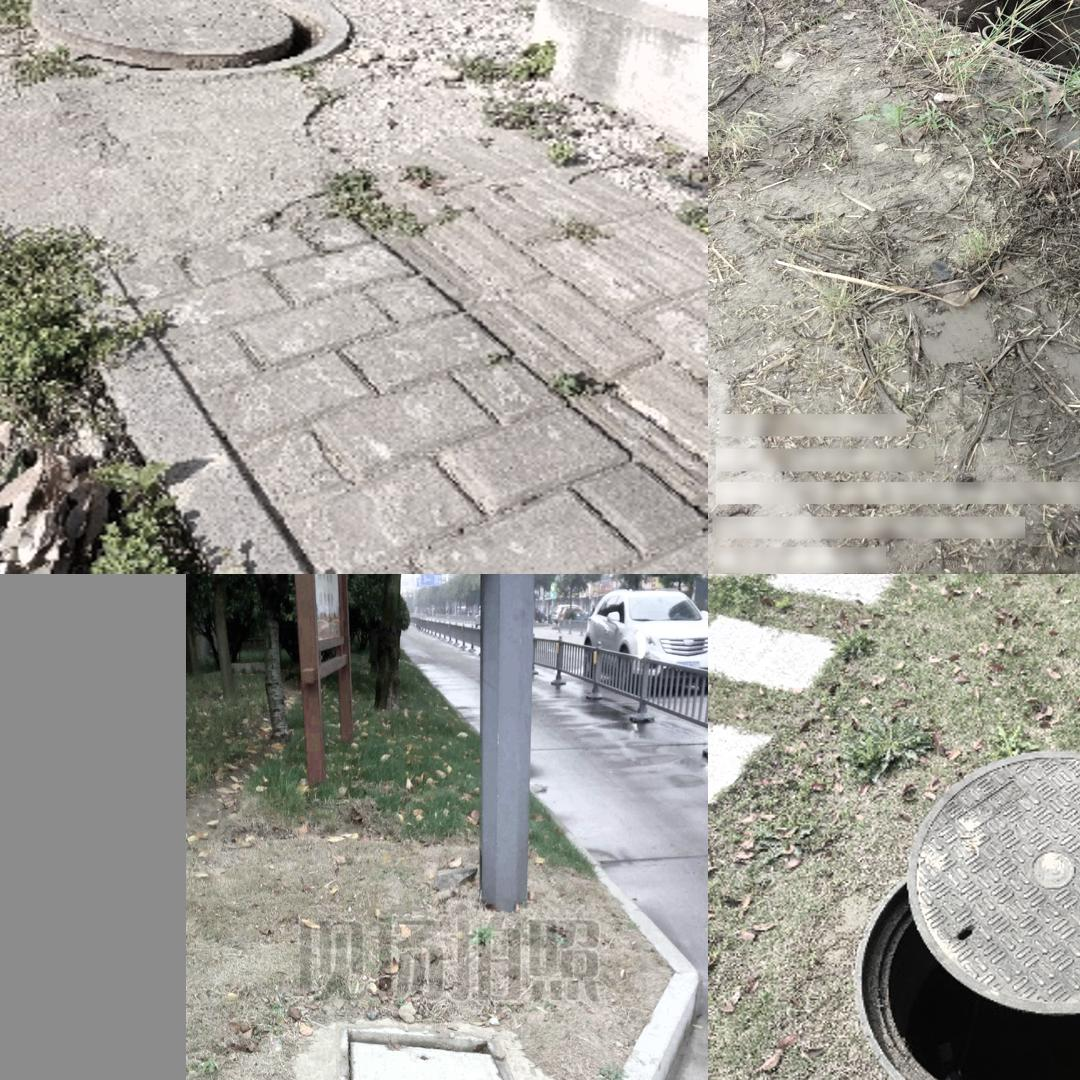uncovered: (853, 751, 1080, 1080), (26, 0, 352, 74), (904, 0, 1080, 87), (341, 1025, 545, 1080)
